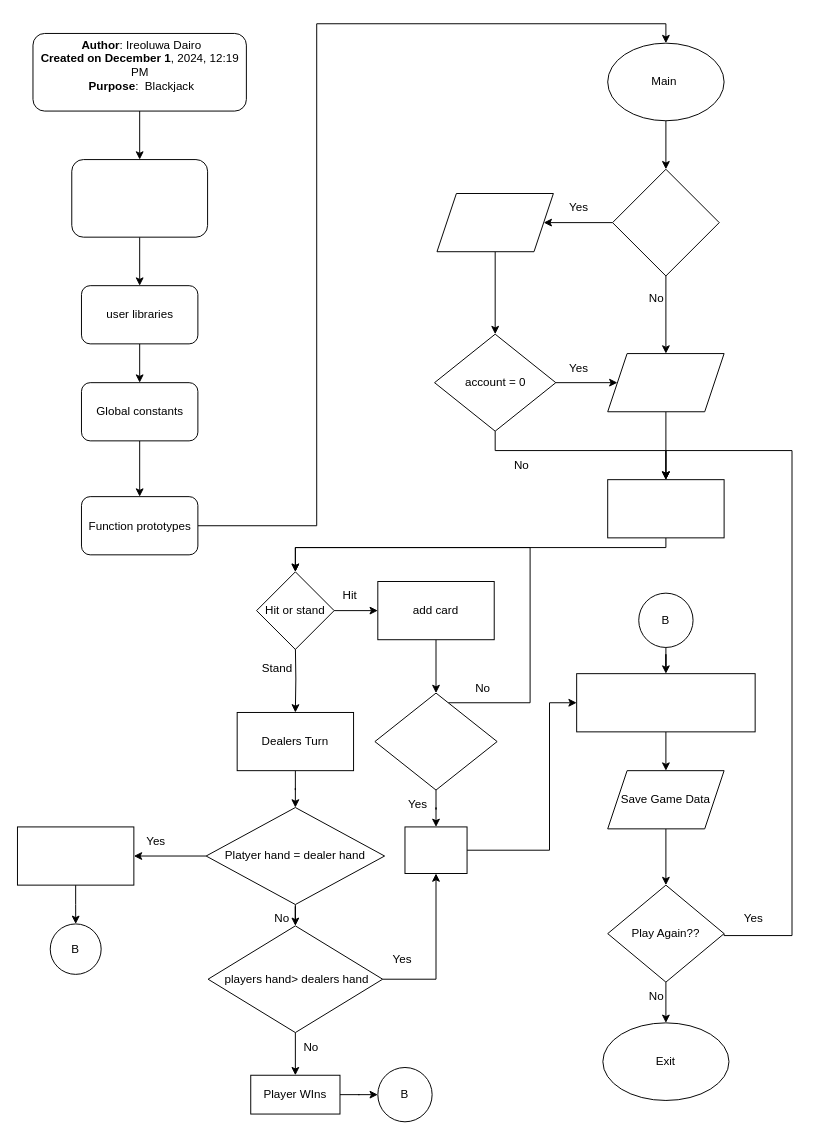
The diagram is 817 pixels wide and 1139 high, and some of its shapes have lost their labels. Here are the shapes that lost their labels. From the top down, the centre of each, then its label:
At point (139, 198): "system libraries Standard Namespace".
At point (494, 222): "Load saved game".
At point (665, 222): "load save game?".
At point (665, 382): "Start new game".
At point (665, 508): "Players Turn, place bet based on account balance".
At point (665, 702): "Update Game stats (update wins/losses/cash)".
At point (435, 741): "is player bust ??".
At point (75, 855): "Draw".
At point (435, 849): "Dealer wins".
